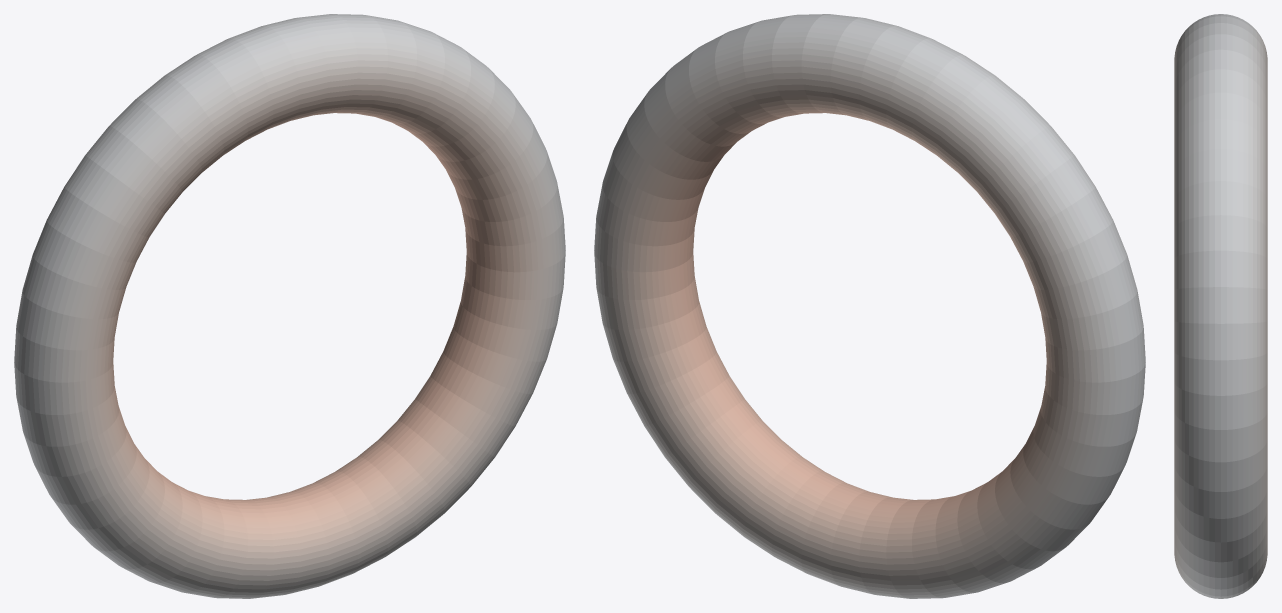
3 views of the same model, side by side, from view 1: azimuth 30°, elevation 25°; view 2: azimuth 150°, elevation 25°; view 3: azimuth 270°, elevation 25° (orthographic). The views are drawn at different scales.
Visible parts, largest first — view 1: world; view 2: world; view 3: world.
Boxes of the visible parts, left/top/right/bottom form: world: left=14, top=14, right=565, bottom=598; world: left=594, top=14, right=1145, bottom=598; world: left=1174, top=14, right=1267, bottom=598.
Size of the model in its own units: 30.93 by 30.87 by 4.92.
